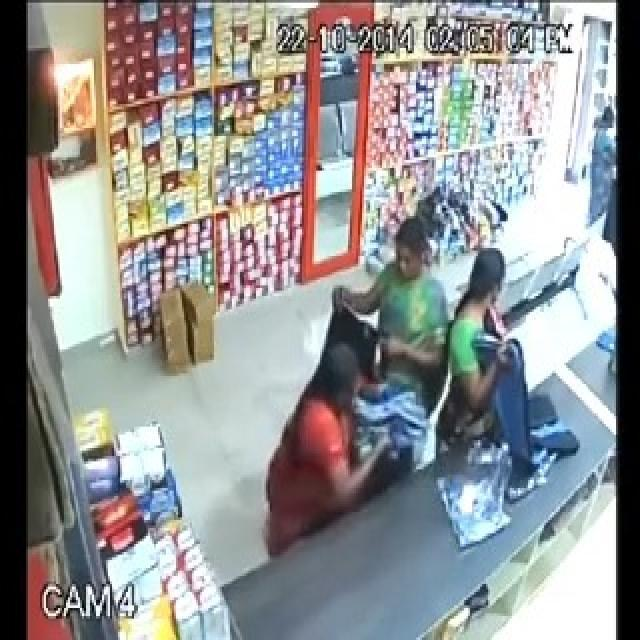Normal: (255, 333, 438, 570), (444, 239, 541, 511), (327, 205, 449, 421)
